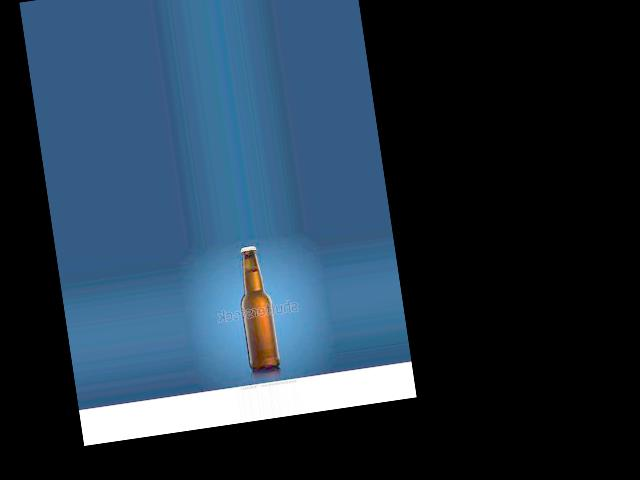beer: (231, 243, 280, 371)
